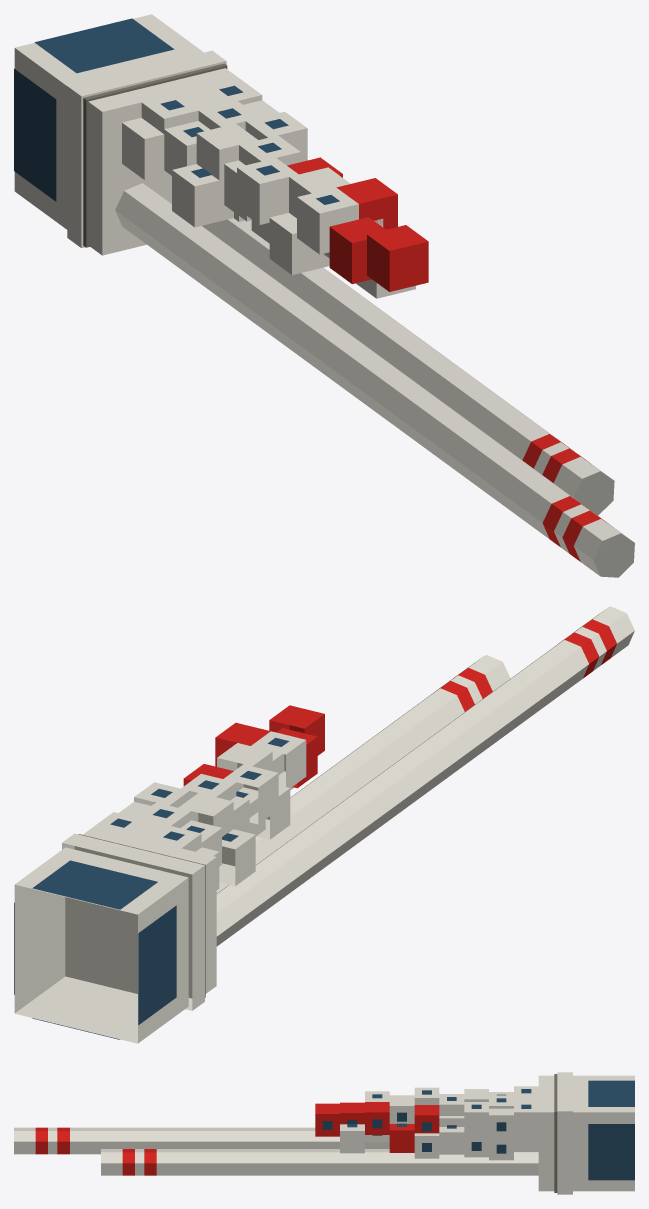
Rendered from construction_2.glb.
3 renders of one model, top to bottom at view 1: azimuth 30°, elevation 25°; view 2: azimuth 150°, elevation 25°; view 3: azimuth 270°, elevation 25°, orthographic. The views are drawn at different scales.
Parts seen in each view (by area): view 1: construction_2; view 2: construction_2; view 3: construction_2.
Part boxes in pixels (box(x1,y1,x2,y2)): construction_2: box(14, 14, 634, 577); construction_2: box(14, 606, 634, 1043); construction_2: box(14, 1072, 634, 1194).
Size of the model in its own units: 14.8 by 14.8 by 100.
